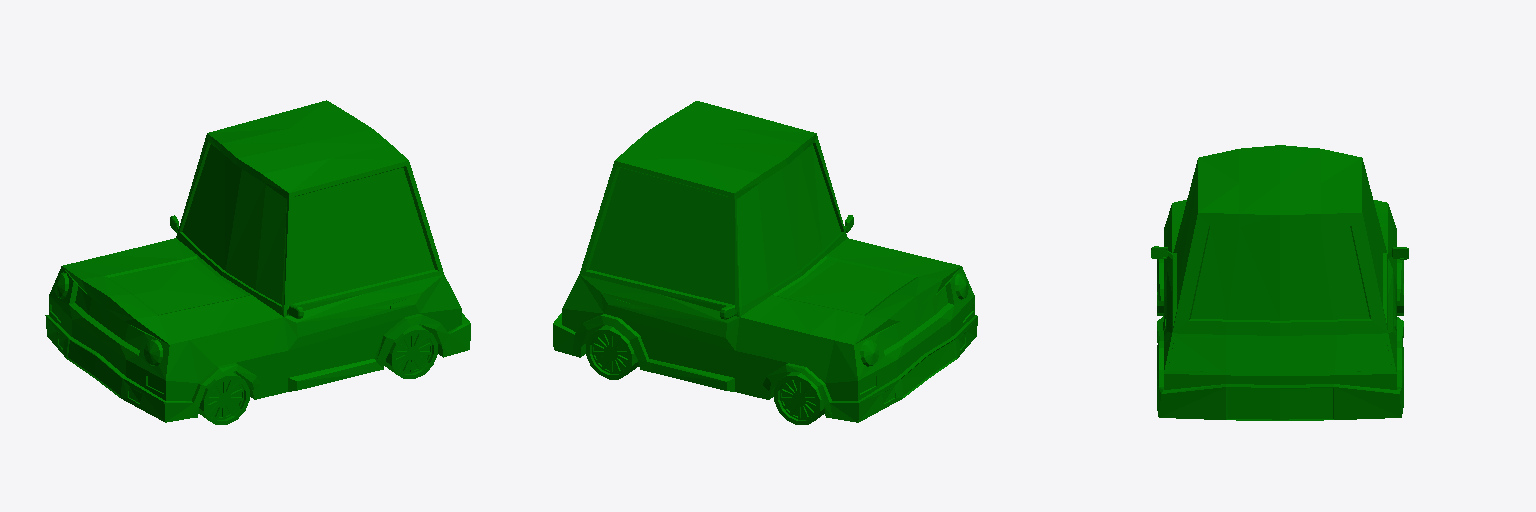
Rendered from car.obj.
The picture shows the model from 3 angles: view 1: azimuth 30°, elevation 25°; view 2: azimuth 150°, elevation 25°; view 3: azimuth 270°, elevation 25°; orthographic projection.
Visible parts, largest first — view 1: body, Wheels; view 2: body, Wheels; view 3: body.
Boxes of the visible parts, box(x1,y1,x2,y2) form: body: box(45, 100, 470, 422); Wheels: box(199, 325, 437, 424); body: box(553, 101, 977, 422); Wheels: box(586, 325, 824, 424); body: box(1151, 145, 1408, 420).
Size of the model in its own units: 7.84 by 4.7 by 5.4.